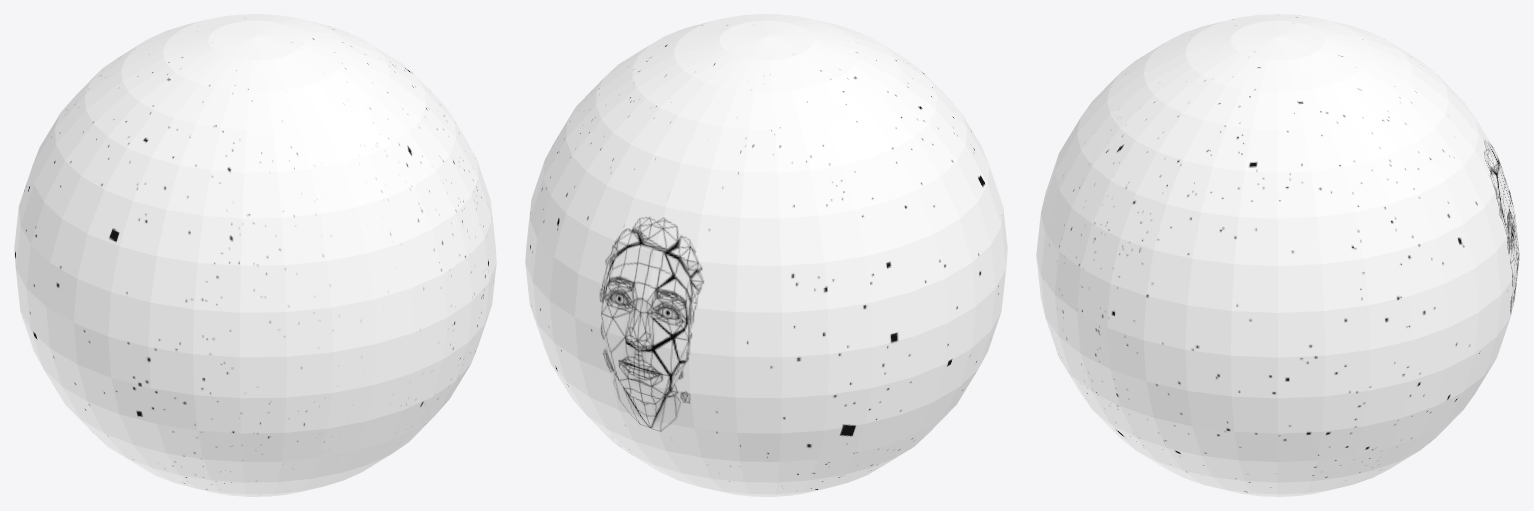
File: gopro.glb
3 views of the same model, side by side, from view 1: azimuth 30°, elevation 25°; view 2: azimuth 150°, elevation 25°; view 3: azimuth 270°, elevation 25° (orthographic).
Visible parts, largest first — view 1: BACK, FRNT; view 2: BACK, FRNT; view 3: FRNT, BACK.
Part boxes in pixels (bbox=[...]): BACK: bbox=[14, 19, 376, 496]; FRNT: bbox=[209, 14, 496, 486]; BACK: bbox=[645, 19, 1007, 496]; FRNT: bbox=[525, 14, 812, 486]; FRNT: bbox=[1036, 36, 1519, 496]; BACK: bbox=[1041, 14, 1514, 210].
Bounding box in the file's own units: 2 × 2 × 2.
4 materials, 2 textured.
